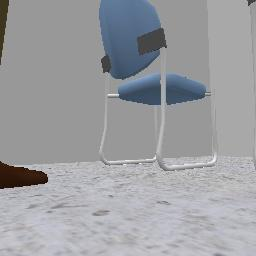scaun: (99, 0, 217, 170)
